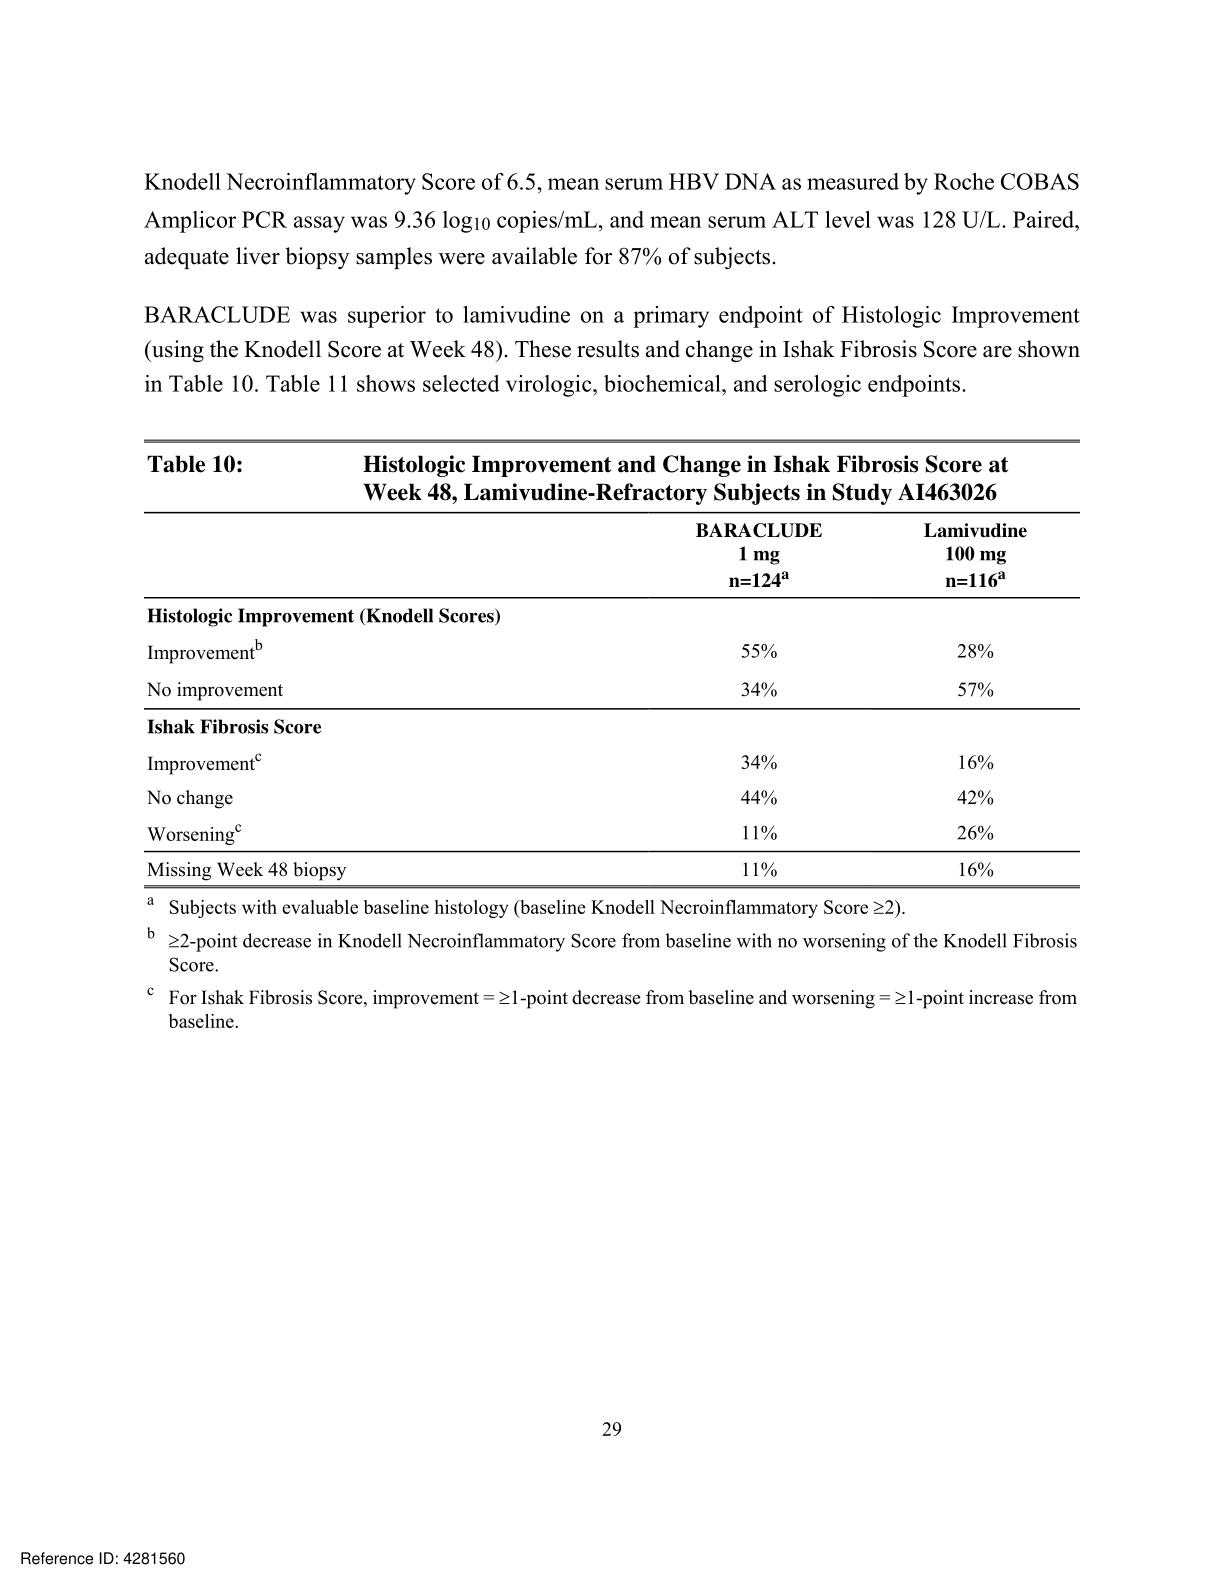partial_lined_merged_cells: (143, 438, 1081, 888)
